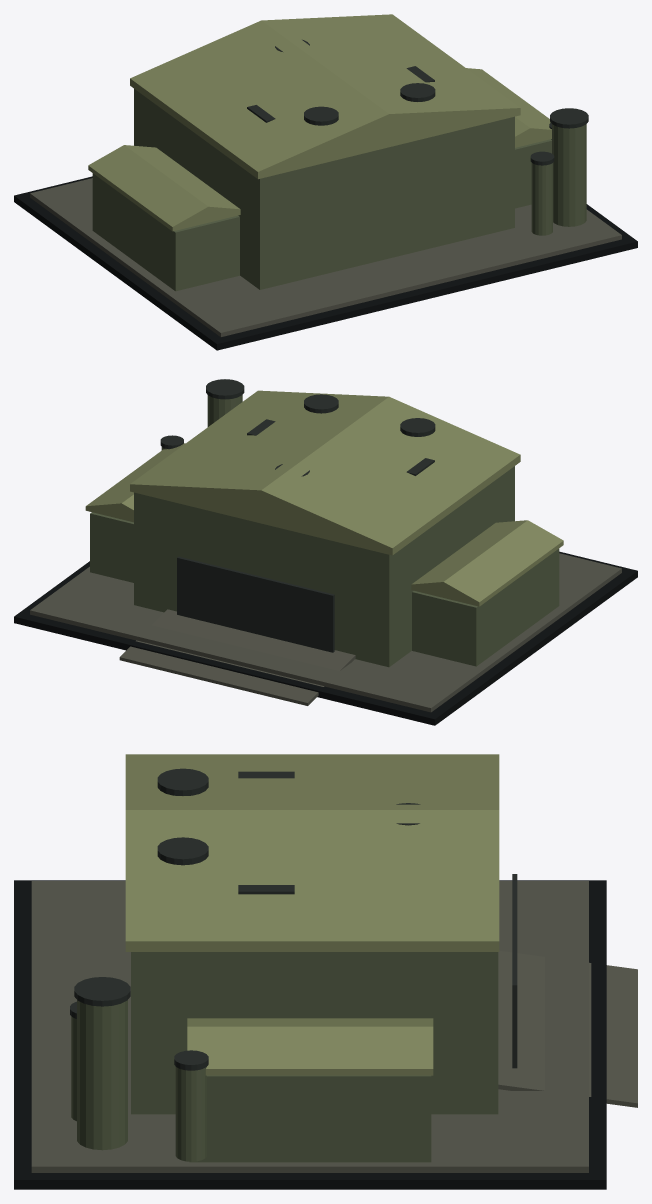
The model's file is Bastion_WarFactoryCMV2_LOD1_BaseArmor.obj.
The picture shows the model from 3 angles, top to bottom: view 1: azimuth 30°, elevation 25°; view 2: azimuth 150°, elevation 25°; view 3: azimuth 270°, elevation 25°; orthographic projection. The views are drawn at different scales.
Parts seen in each view (by area): view 1: lod1_roof_4, lod1_main_block_3, lod1_pad_1, lod1_foundation_0, lod1_side_annex_6, lod1_annex_roof_7, lod1_stack_10, lod1_annex_roof_9, lod1_stack_12, lod1_side_annex_8, lod1_stack_top_11, lod1_fan_17 (+1 smaller); view 2: lod1_roof_4, lod1_main_block_3, lod1_pad_1, lod1_bay_dark_5, lod1_side_annex_6, lod1_foundation_0, lod1_ramp_2, lod1_annex_roof_7, lod1_side_annex_8, lod1_annex_roof_9, lod1_stack_top_11, lod1_stack_10 (+2 smaller); view 3: lod1_roof_4, lod1_pad_1, lod1_main_block_3, lod1_foundation_0, lod1_side_annex_8, lod1_annex_roof_9, lod1_ramp_2, lod1_stack_10, lod1_stack_14, lod1_stack_top_11, lod1_fan_18, lod1_fan_17 (+4 smaller).
Boxes of the visible parts, bbox=[...] form: lod1_roof_4: bbox=[130, 14, 520, 179]; lod1_main_block_3: bbox=[134, 89, 514, 289]; lod1_pad_1: bbox=[30, 178, 621, 336]; lod1_foundation_0: bbox=[14, 176, 637, 350]; lod1_side_annex_6: bbox=[92, 173, 239, 291]; lod1_annex_roof_7: bbox=[88, 145, 240, 231]; lod1_stack_10: bbox=[552, 124, 586, 226]; lod1_annex_roof_9: bbox=[466, 68, 551, 147]; lod1_stack_12: bbox=[531, 163, 552, 235]; lod1_side_annex_8: bbox=[515, 139, 551, 208]; lod1_stack_top_11: bbox=[550, 108, 588, 128]; lod1_fan_17: bbox=[304, 106, 338, 125]; lod1_roof_4: bbox=[130, 390, 520, 555]; lod1_main_block_3: bbox=[134, 466, 514, 667]; lod1_pad_1: bbox=[30, 553, 621, 712]; lod1_bay_dark_5: bbox=[177, 556, 334, 652]; lod1_side_annex_6: bbox=[412, 548, 559, 666]; lod1_foundation_0: bbox=[14, 551, 637, 725]; lod1_ramp_2: bbox=[119, 609, 355, 705]; lod1_annex_roof_7: bbox=[411, 520, 563, 606]; lod1_side_annex_8: bbox=[90, 512, 133, 582]; lod1_annex_roof_9: bbox=[85, 443, 185, 522]; lod1_stack_top_11: bbox=[206, 379, 244, 399]; lod1_stack_10: bbox=[207, 395, 242, 426]; lod1_roof_4: bbox=[125, 754, 499, 951]; lod1_pad_1: bbox=[31, 881, 588, 1172]; lod1_main_block_3: bbox=[131, 952, 498, 1114]; lod1_foundation_0: bbox=[14, 880, 606, 1189]; lod1_side_annex_8: bbox=[189, 1075, 431, 1162]; lod1_annex_roof_9: bbox=[187, 1018, 433, 1075]; lod1_ramp_2: bbox=[498, 950, 637, 1107]; lod1_stack_10: bbox=[77, 1000, 127, 1150]; lod1_stack_14: bbox=[175, 1067, 206, 1161]; lod1_stack_top_11: bbox=[74, 977, 130, 1006]; lod1_fan_18: bbox=[157, 837, 208, 865]; lod1_fan_17: bbox=[157, 768, 208, 795].
Bounding box in the file's own units: 17 × 6.1 × 14.95.
5 materials, 5 textured.
